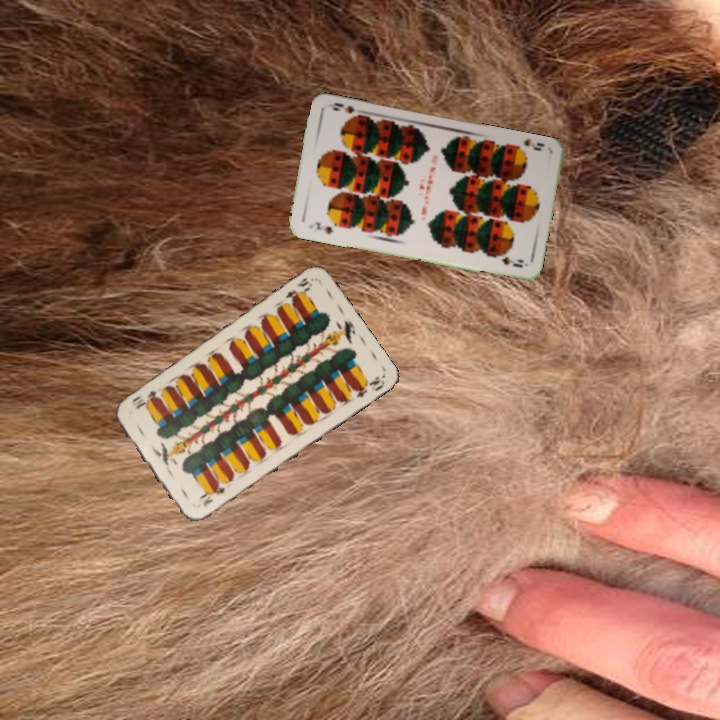E10: (281, 274, 315, 307), (197, 482, 228, 510)
S9: (509, 135, 547, 155), (303, 218, 336, 237)
